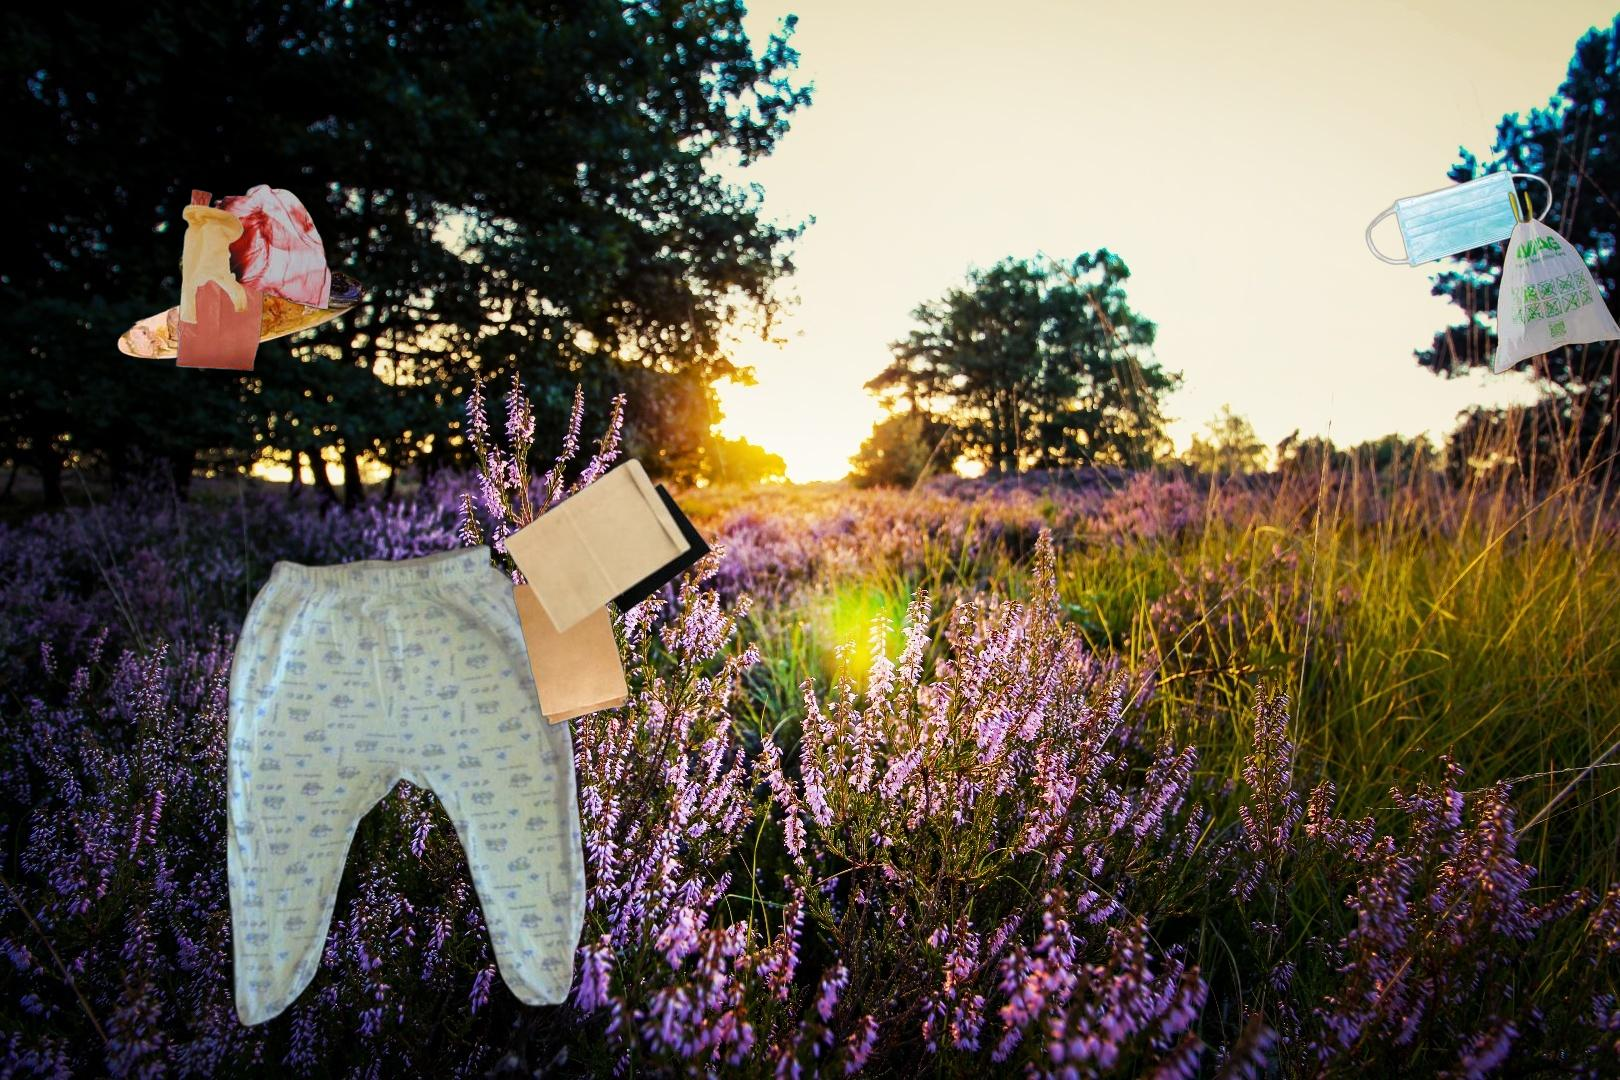biological: (115, 266, 370, 362)
clothes: (222, 538, 589, 1033)
paper-bag: (499, 454, 714, 727)
plastic-bag: (174, 181, 335, 381), (1493, 187, 1620, 377)
trash: (1363, 168, 1555, 270)
